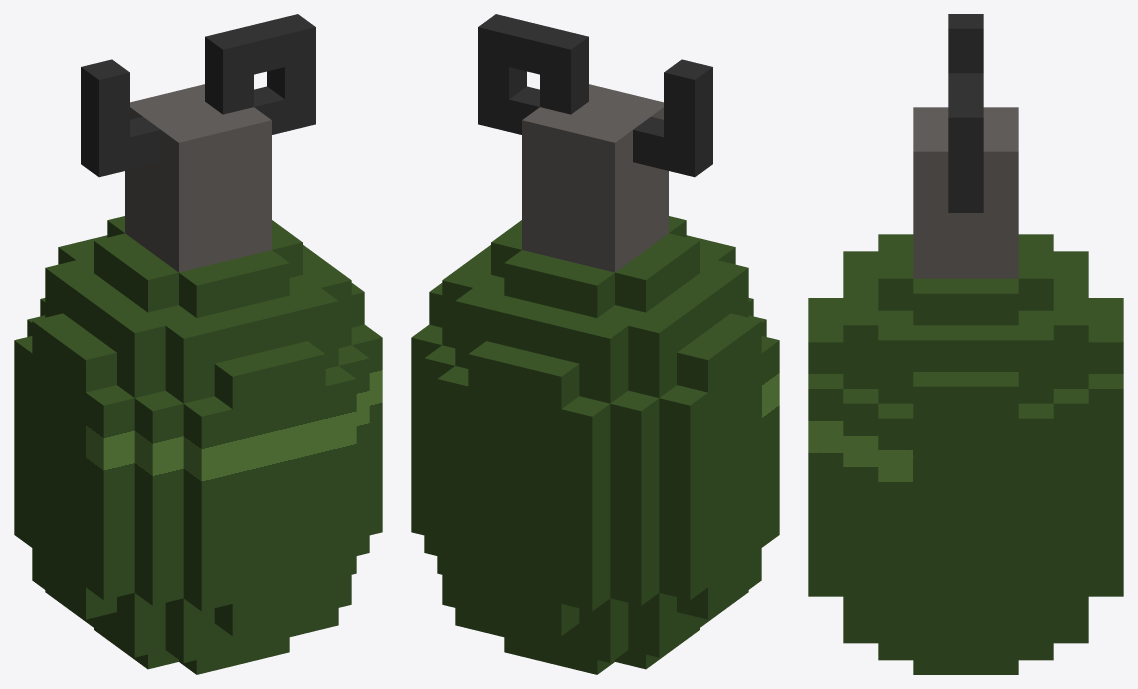
File: Grenade.dae
The picture shows the model from 3 angles, left to right: view 1: azimuth 30°, elevation 25°; view 2: azimuth 150°, elevation 25°; view 3: azimuth 270°, elevation 25°; orthographic projection. The views are drawn at different scales.
Parts seen in each view (by area): view 1: Grenade; view 2: Grenade; view 3: Grenade.
Boxes of the visible parts, bbox=[...] form: Grenade: bbox=[14, 14, 382, 674]; Grenade: bbox=[411, 14, 779, 674]; Grenade: bbox=[808, 14, 1123, 674].
Bounding box in the file's own units: 9 × 18 × 9.
Materials: 1 (1 with a texture image).
